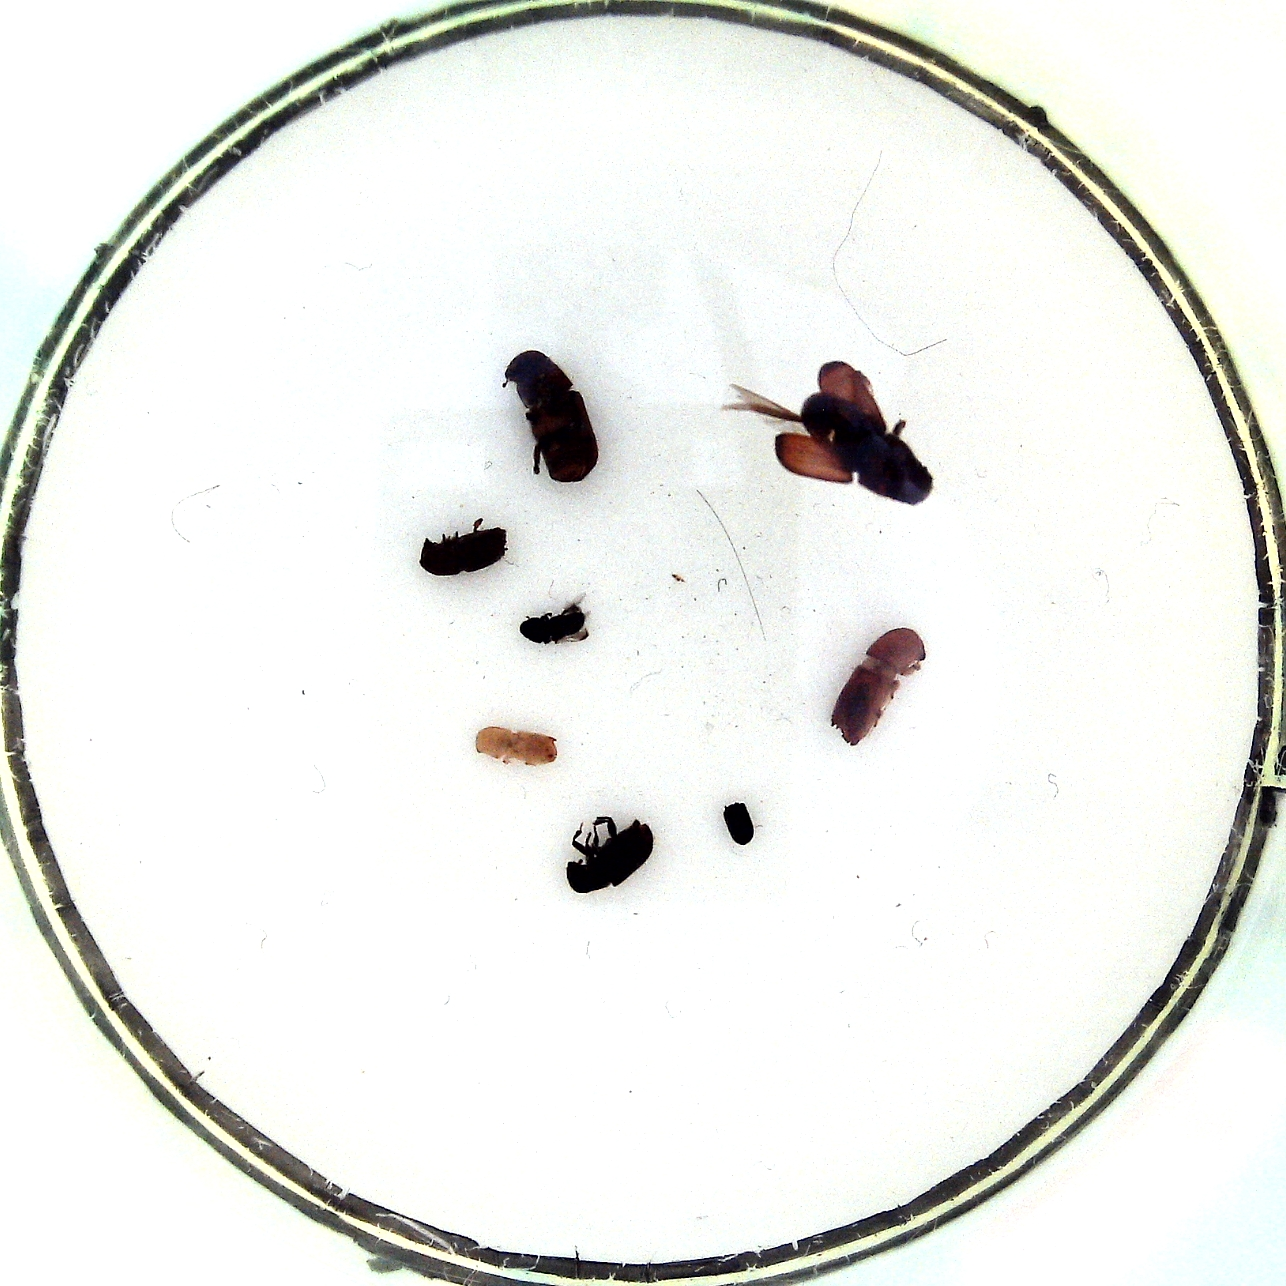Boerner: (821, 617, 930, 753)
Leconte: (720, 357, 937, 508), (498, 345, 601, 486)
Linnaeus: (416, 513, 512, 581)
acuminatus: (470, 717, 562, 767)
armandi: (565, 808, 658, 899)
coleoptera: (512, 591, 596, 647), (721, 798, 757, 847)
